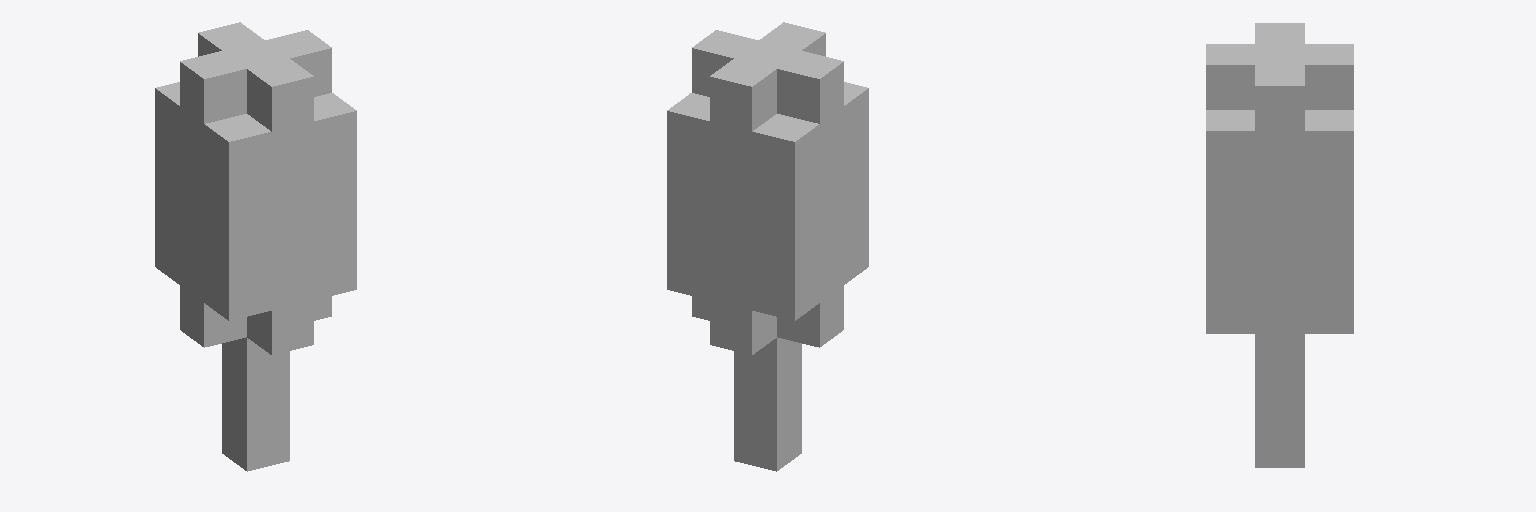
File: tree1.obj
3 renders of one model, left to right at view 1: azimuth 30°, elevation 25°; view 2: azimuth 150°, elevation 25°; view 3: azimuth 270°, elevation 25°, orthographic.
Parts seen in each view (by area): view 1: object 1; view 2: object 1; view 3: object 1.
Boxes of the visible parts, x1=… form: object 1: x1=155, y1=22, x2=356, y2=471; object 1: x1=667, y1=22, x2=868, y2=471; object 1: x1=1206, y1=23, x2=1353, y2=467.
Bounding box in the file's own units: 0.3 × 0.9 × 0.3.